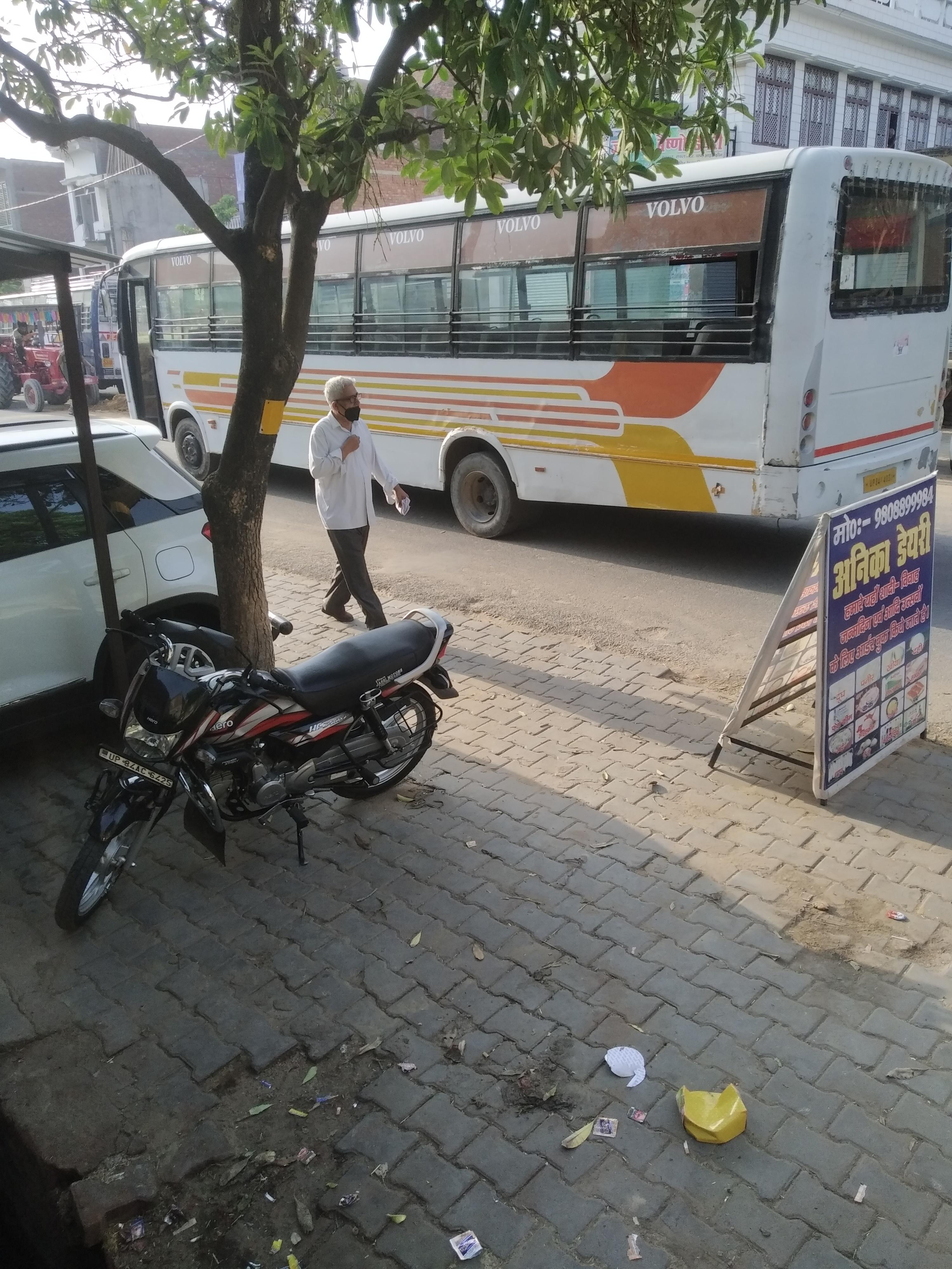non-ambulance: (84, 154, 952, 528)
